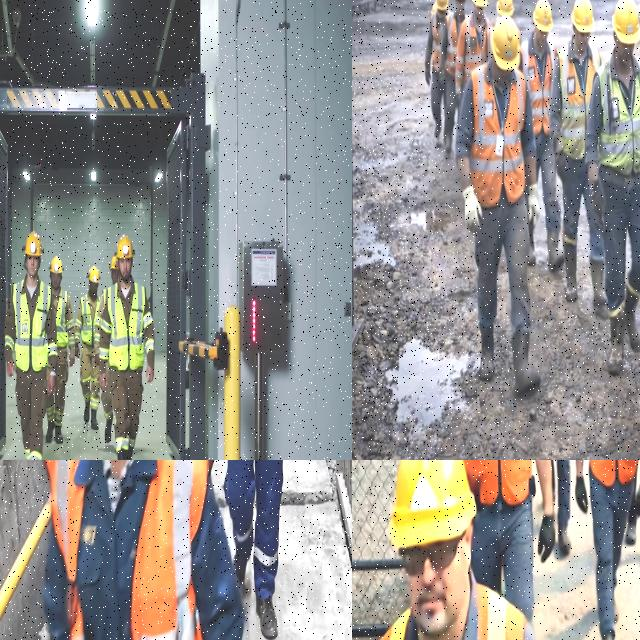Vest: (131, 460, 211, 639), (470, 65, 525, 207), (597, 59, 639, 176), (558, 45, 600, 159), (105, 283, 145, 370), (12, 282, 50, 371), (521, 40, 555, 135), (464, 460, 531, 505), (475, 583, 524, 639), (455, 14, 491, 87), (589, 460, 637, 486), (444, 14, 461, 76), (80, 295, 98, 346), (430, 14, 445, 72), (54, 292, 68, 350)
Worker: (43, 460, 243, 639), (455, 17, 539, 395), (380, 460, 534, 639), (585, 0, 639, 375), (549, 0, 605, 310), (99, 235, 153, 459), (519, 0, 563, 271), (4, 232, 56, 459), (464, 460, 535, 621), (223, 460, 282, 639), (588, 460, 637, 639), (45, 256, 73, 444), (438, 0, 465, 156), (455, 0, 491, 109), (75, 266, 99, 429), (425, 0, 448, 147), (557, 460, 570, 555), (101, 362, 112, 443), (624, 504, 638, 546), (496, 0, 513, 16)
helmet: (389, 460, 475, 549), (491, 16, 519, 71), (612, 0, 640, 44), (571, 0, 593, 33), (533, 0, 552, 32), (22, 232, 43, 257), (116, 235, 133, 259), (496, 0, 513, 15), (49, 256, 62, 273), (86, 266, 99, 282), (436, 0, 448, 11), (109, 254, 117, 270), (472, 0, 487, 7), (431, 2, 436, 14), (464, 0, 466, 0)
